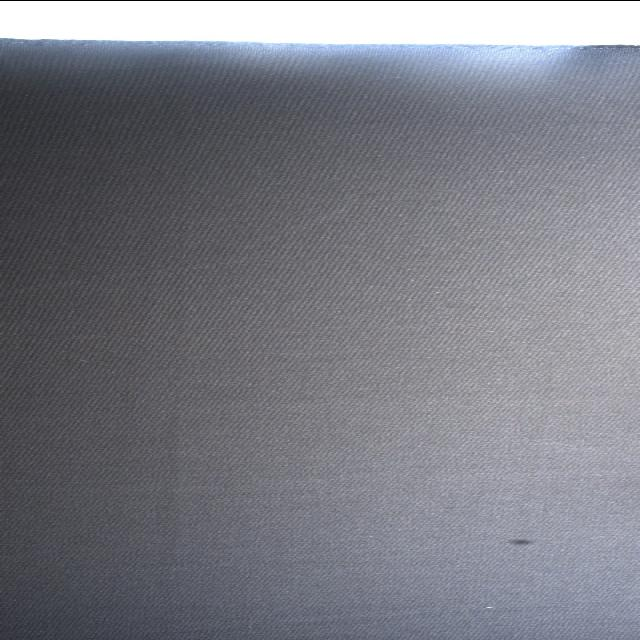crease: (19, 199, 365, 293), (197, 599, 557, 633), (159, 218, 197, 533)
